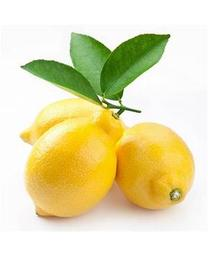lemon: (26, 111, 118, 219), (117, 121, 195, 209)
